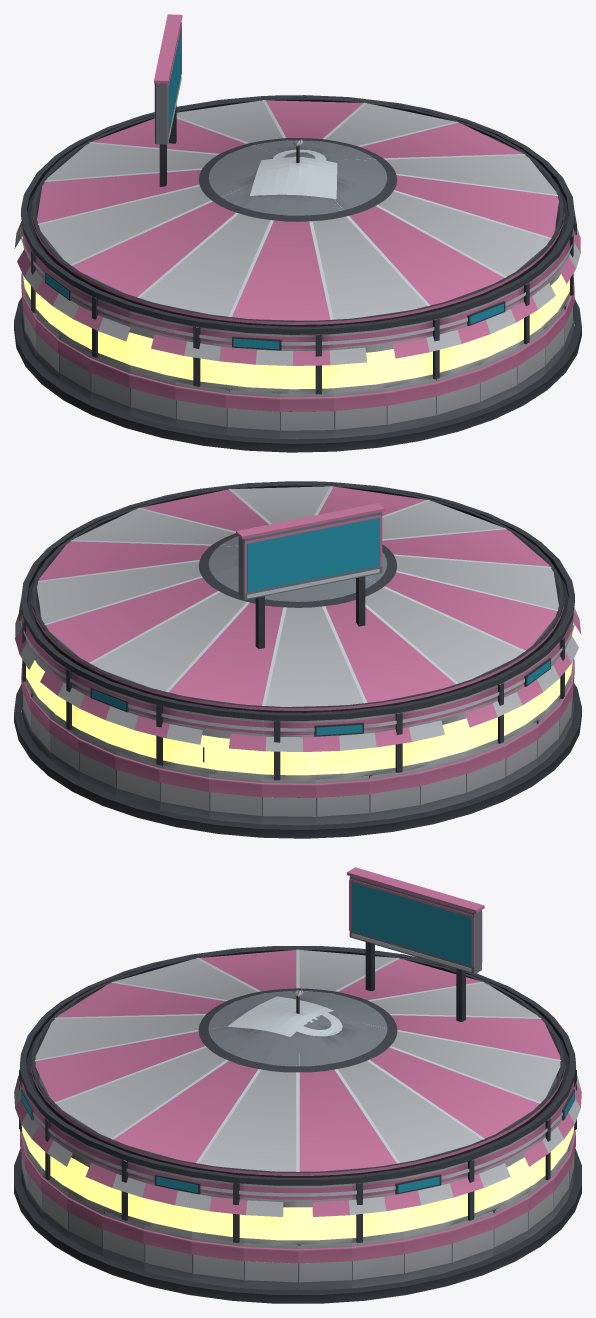
The model's file is retail_m_far.glb.
The picture shows the model from 3 angles, top to bottom: view 1: azimuth 30°, elevation 25°; view 2: azimuth 150°, elevation 25°; view 3: azimuth 270°, elevation 25°; orthographic projection.
Visible parts, largest first — view 1: Roof, Base; view 2: Roof, Base; view 3: Roof, Base.
Part boxes in pixels (x1,y1,x2,y2): Roof: [14, 14, 580, 394]; Base: [14, 273, 581, 452]; Roof: [15, 481, 581, 780]; Base: [14, 659, 581, 838]; Roof: [14, 867, 581, 1244]; Base: [14, 1129, 581, 1303].
Size of the model in its own units: 14.76 by 7.45 by 14.75.
